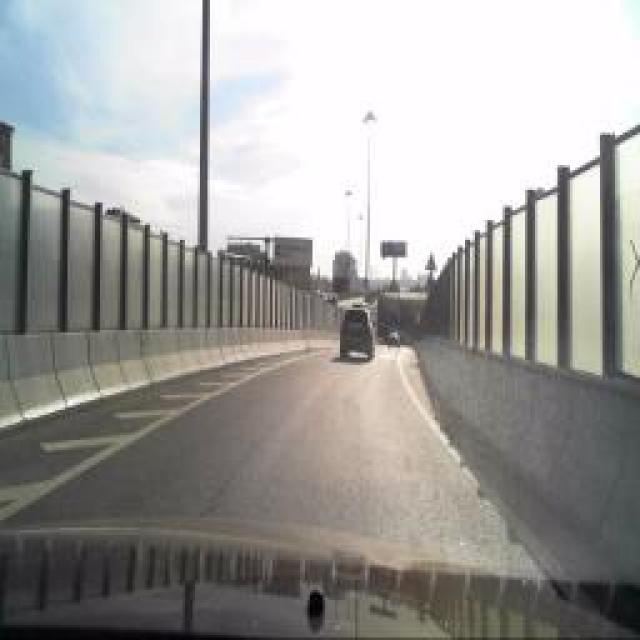sign: (425, 251, 437, 271)
